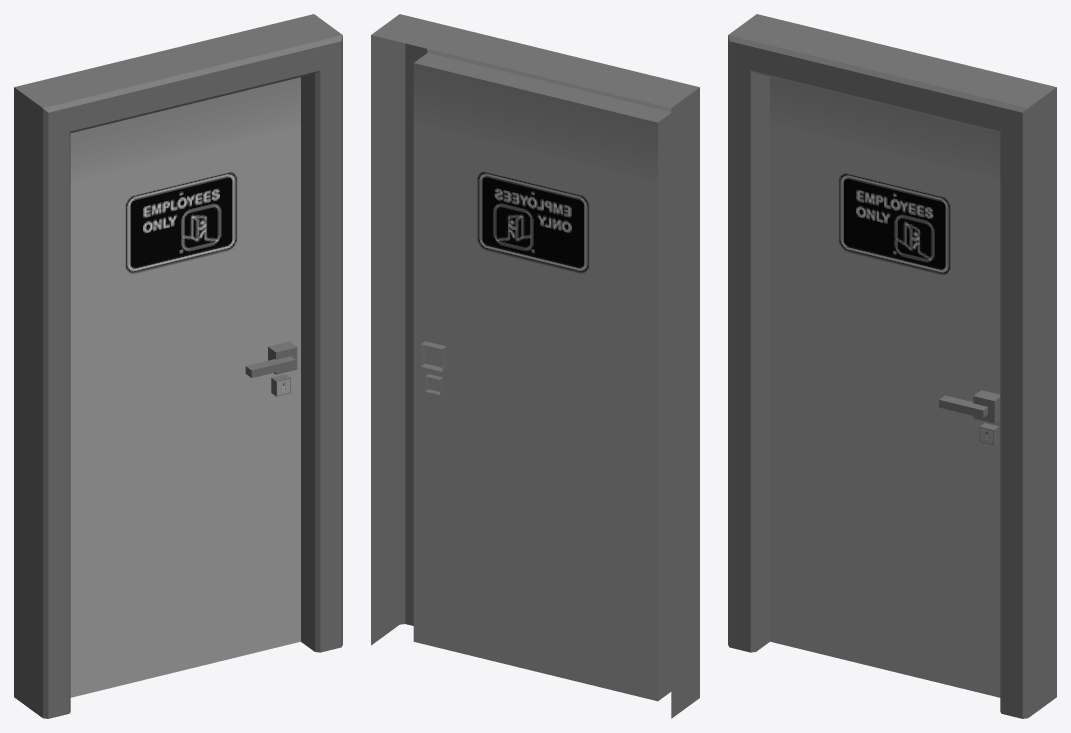
Rendered from Door.fbx.
3 views of the same model, side by side, from view 1: azimuth 30°, elevation 25°; view 2: azimuth 150°, elevation 25°; view 3: azimuth 330°, elevation 25° (orthographic).
Parts seen in each view (by area): view 1: Cube.027; view 2: Cube.027; view 3: Cube.027.
Boxes of the visible parts, x1,y1,x2,y2 form: Cube.027: (14, 14, 342, 718); Cube.027: (371, 14, 699, 718); Cube.027: (728, 14, 1056, 718).
Size of the model in its own units: 420 by 817 by 74.66.
Materials: 1 (1 with a texture image).
